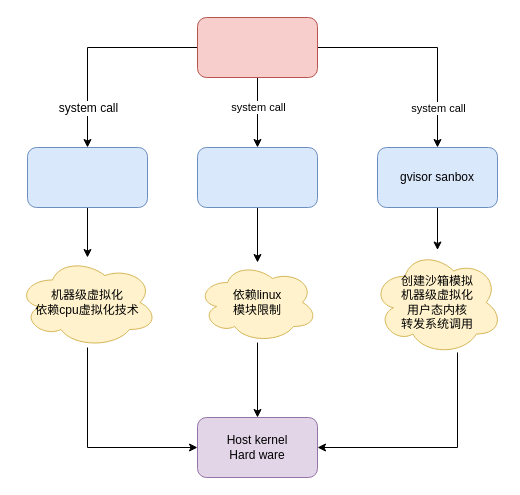
The diagram is 520 pixels wide and 495 high, and some of its shapes have lost their labels. Each missing label, with the centre of its shape:
Application: (257,47)
seccomp SElinux AppArmor: (257,177)
VMM ( kvm or Xen) Virtual Hareware: (87,177)
